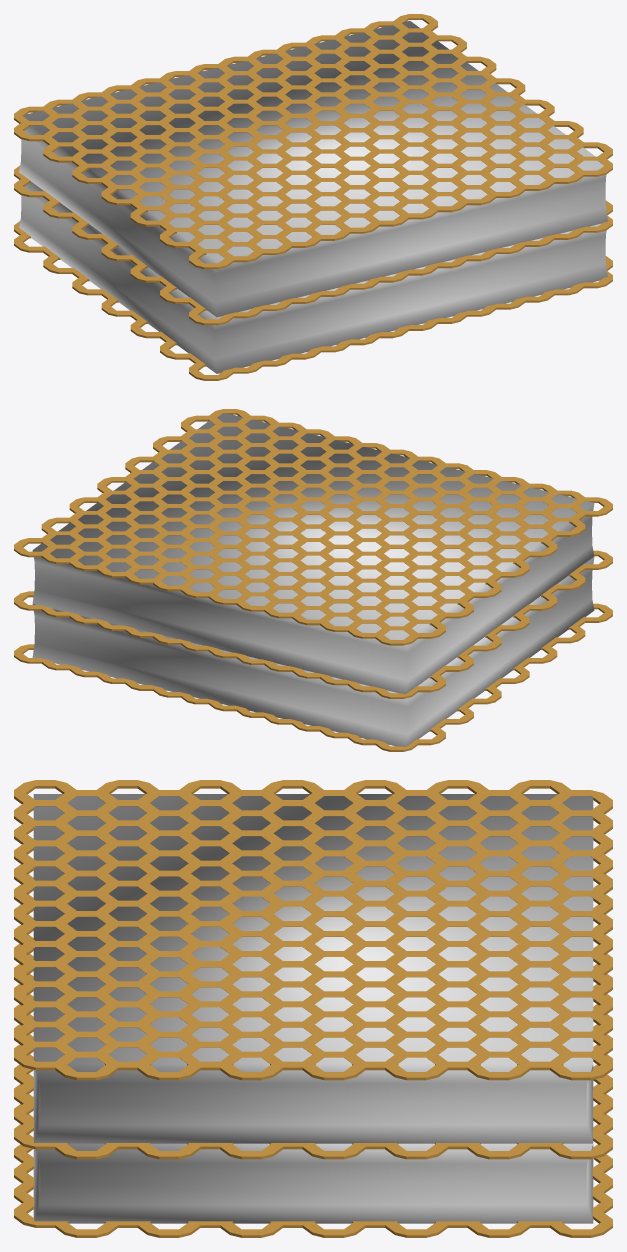
The model's file is honeycomb.fbx.
The picture shows the model from 3 angles, top to bottom: view 1: azimuth 30°, elevation 25°; view 2: azimuth 150°, elevation 25°; view 3: azimuth 270°, elevation 25°; orthographic projection. The views are drawn at different scales.
Visible parts, largest first — view 1: Honey, HoneyComb.003, Honey.001, HoneyComb.002, HoneyComb.001; view 2: Honey, HoneyComb.003, Honey.001, HoneyComb.002, HoneyComb.001; view 3: Honey, HoneyComb.003, Honey.001, HoneyComb.002, HoneyComb.001.
Boxes of the visible parts, box(x1,y1,x2,y2) form: Honey: box(19, 21, 607, 317); HoneyComb.003: box(14, 14, 612, 269); Honey.001: box(19, 181, 607, 373); HoneyComb.002: box(14, 221, 612, 380); HoneyComb.001: box(14, 165, 612, 325); Honey: box(32, 413, 594, 694); HoneyComb.003: box(14, 409, 612, 645); Honey.001: box(32, 557, 594, 746); HoneyComb.002: box(14, 603, 612, 751); HoneyComb.001: box(14, 550, 612, 698); Honey: box(33, 794, 593, 1143); HoneyComb.003: box(14, 780, 612, 1080); Honey.001: box(33, 1143, 593, 1223); HoneyComb.002: box(14, 943, 612, 1237); HoneyComb.001: box(14, 864, 612, 1159).
Size of the model in its own units: 1281 by 322 by 1089.
